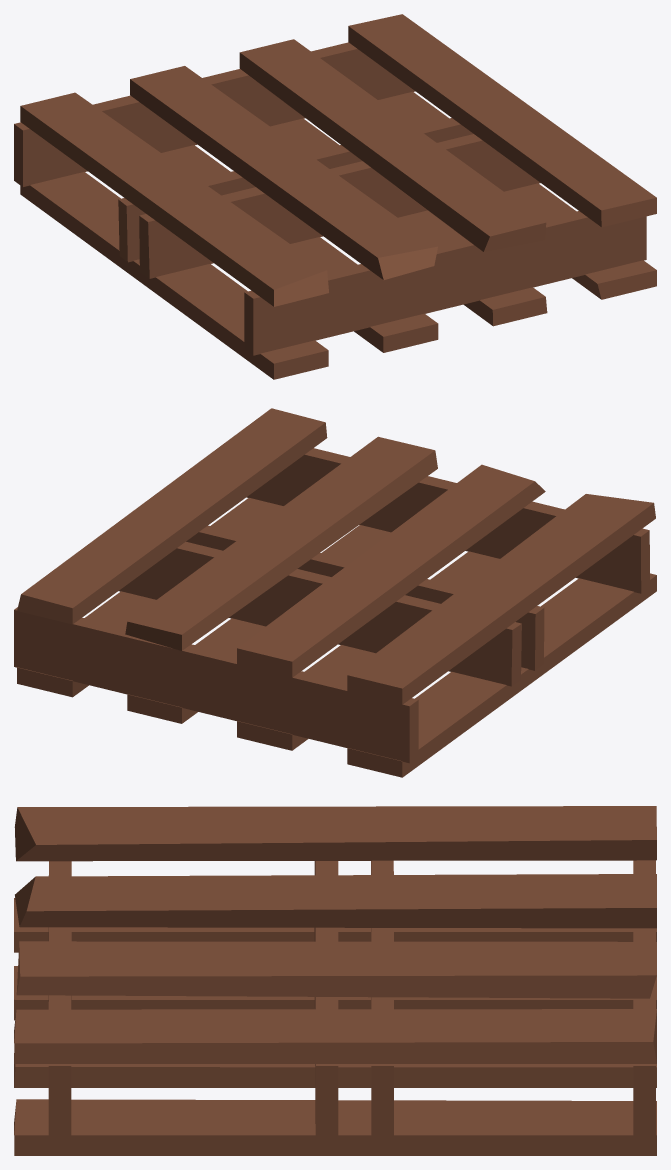
Rendered from Pallet.fbx.
The picture shows the model from 3 angles, top to bottom: view 1: azimuth 30°, elevation 25°; view 2: azimuth 150°, elevation 25°; view 3: azimuth 270°, elevation 25°; orthographic projection. The views are drawn at different scales.
Visible parts, largest first — view 1: Cube.003; view 2: Cube.003; view 3: Cube.003.
Boxes of the visible parts, <box> form: Cube.003: <box>14,14,656,379</box>; Cube.003: <box>14,408,656,777</box>; Cube.003: <box>14,806,656,1155</box>.
Bounding box in the file's own units: 179 × 38.64 × 200.
